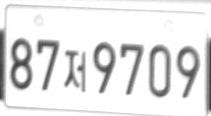0: (148, 44, 171, 97)
7: (120, 43, 144, 94), (36, 38, 59, 91)
8: (9, 37, 33, 90)
9: (176, 44, 201, 98), (93, 40, 115, 93)
저: (63, 49, 86, 92)
